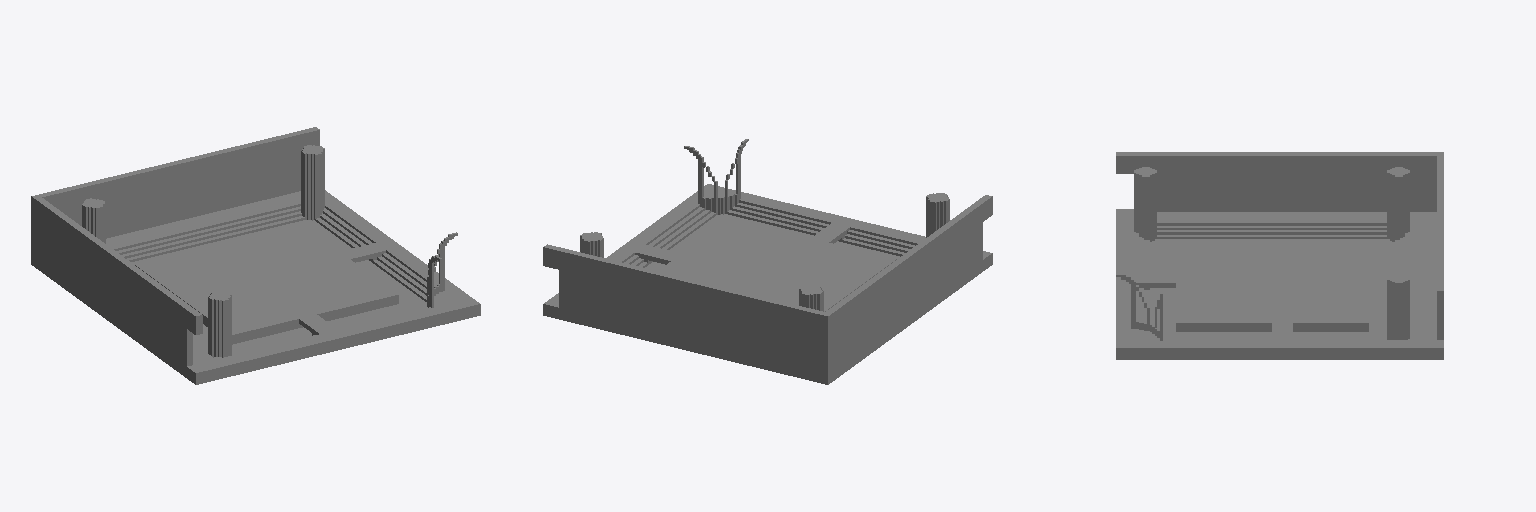
The picture shows the model from 3 angles: view 1: azimuth 30°, elevation 25°; view 2: azimuth 150°, elevation 25°; view 3: azimuth 270°, elevation 25°; orthographic projection.
Parts seen in each view (by area): view 1: object 1; view 2: object 1; view 3: object 1.
Boxes of the visible parts, x1=… form: object 1: x1=31, y1=127, x2=480, y2=384; object 1: x1=543, y1=139, x2=992, y2=384; object 1: x1=1116, y1=152, x2=1443, y2=359.
Bounding box in the file's own units: 12.6 × 2.9 × 12.6.
1 materials, 1 textured.